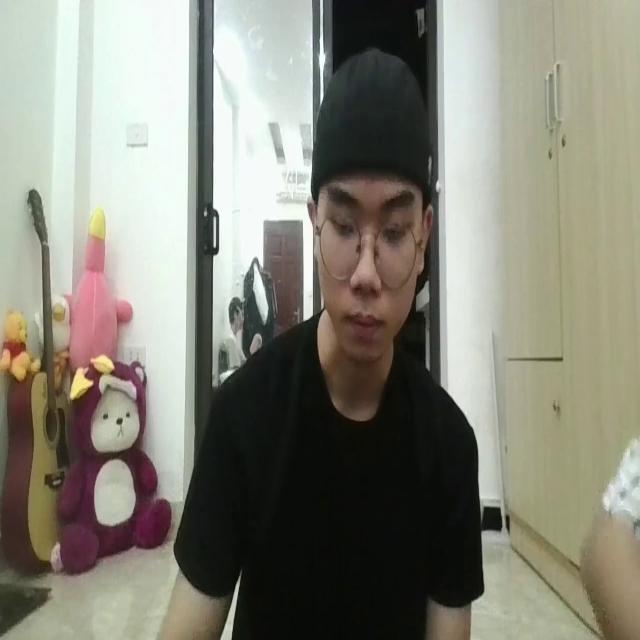student: (152, 50, 474, 640)
